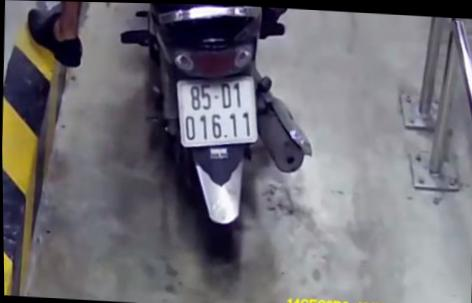LP: (175, 72, 262, 151)
